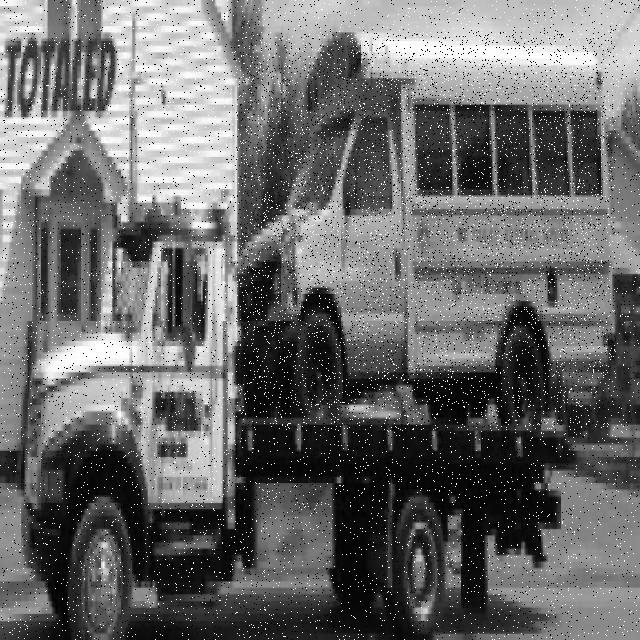Bus- Small: (236, 32, 615, 430)
Tow Truck: (22, 189, 577, 640)
